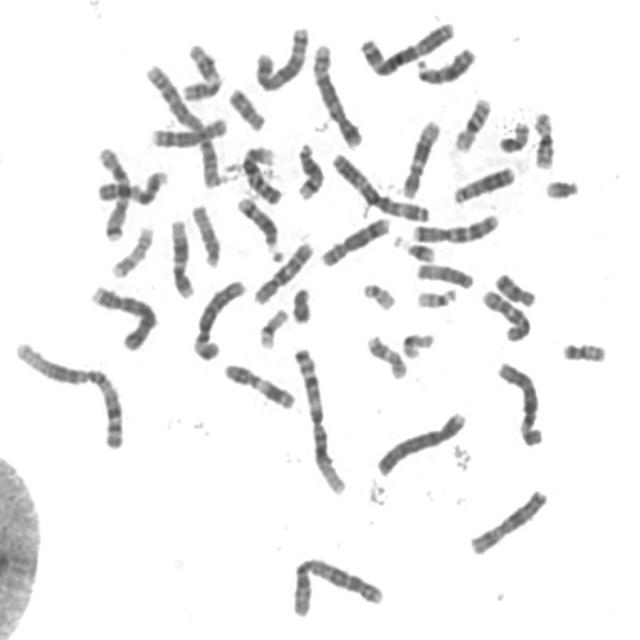A1: (8, 334, 128, 451), (289, 340, 349, 498)
A2: (140, 58, 225, 190), (285, 550, 386, 619)
A3: (325, 146, 433, 224), (354, 15, 457, 78)
B4: (371, 405, 469, 478), (85, 278, 159, 354)
B5: (307, 36, 365, 150), (250, 20, 311, 93)
C10: (248, 235, 316, 307), (477, 284, 533, 344)
C11: (218, 358, 298, 412), (176, 37, 224, 102)
C12: (397, 112, 442, 200), (164, 212, 197, 300)
C6: (188, 273, 248, 363), (492, 356, 546, 448)
C7: (92, 141, 133, 243), (407, 208, 501, 245)
C8: (316, 211, 392, 269), (145, 110, 229, 150)
C9: (92, 163, 170, 207), (237, 139, 283, 206)
D13: (448, 160, 517, 206), (410, 41, 477, 86)
D14: (231, 190, 284, 262), (291, 137, 326, 202)
D15: (187, 198, 223, 268), (411, 257, 476, 291)
E16: (448, 92, 494, 154), (528, 105, 558, 170)
E17: (106, 220, 156, 280), (361, 329, 410, 381)
E18: (223, 82, 267, 133), (490, 267, 538, 308)
F19: (253, 302, 291, 351), (397, 327, 437, 360)
F20: (493, 115, 532, 154), (557, 336, 609, 364)
G21: (389, 231, 437, 264), (539, 172, 582, 201)
G22: (358, 277, 398, 312), (411, 282, 459, 310)
X: (464, 483, 550, 557)
Y: (287, 282, 314, 325)
